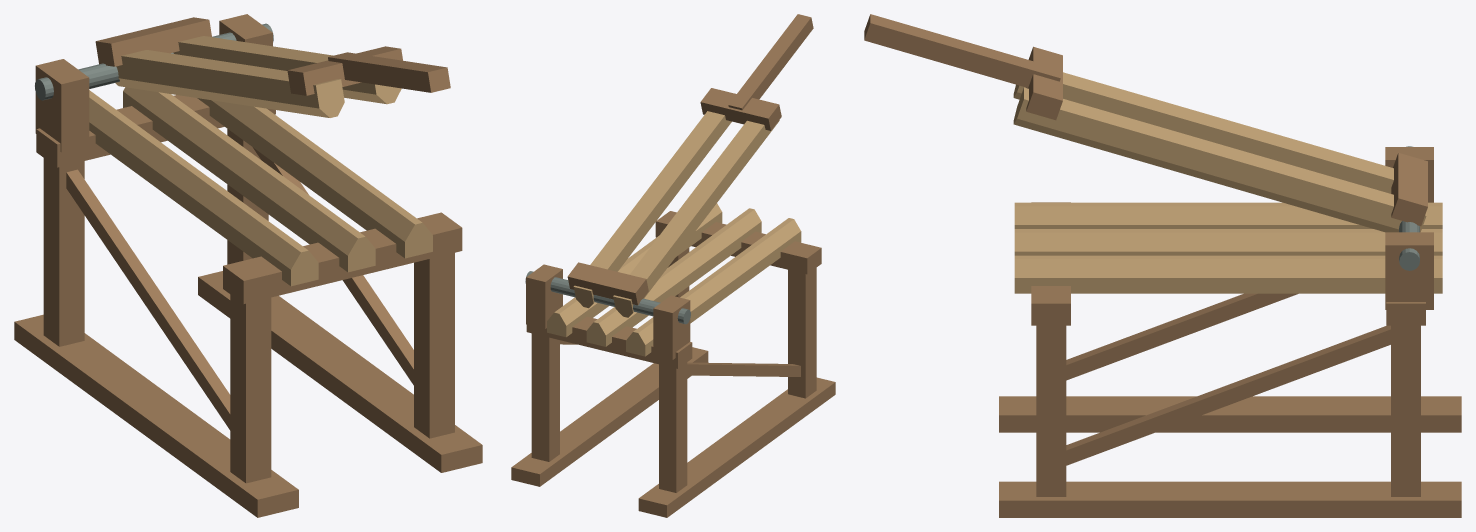
3 renders of one model, left to right at view 1: azimuth 30°, elevation 25°; view 2: azimuth 150°, elevation 25°; view 3: azimuth 270°, elevation 25°, orthographic. The views are drawn at different scales.
Visible parts, largest first — view 1: WholeLongGroundSkid0, WholeLongGroundSkid1, WholeStationaryLowerJaw1, WholeStationaryLowerJaw0, WholeStationaryLowerJaw2, WholeRaisedUpperJaw0, WholeTrestleLeg00, WholeTrestleLeg10, WholeTrestleLeg01, WholeEndCrossBearer0, WholeSideDiagonalBrace0, WholeRaisedUpperJaw1 (+9 smaller); view 2: WholeLongGroundSkid0, WholeRaisedUpperJaw0, WholeRaisedUpperJaw1, WholeLongGroundSkid1, WholeStationaryLowerJaw1, WholeStationaryLowerJaw0, WholeTrestleLeg01, WholeTrestleLeg11, WholeTrestleLeg00, WholeExtendedForwardHandLever, WholeStationaryLowerJaw2, WholeUpperFrameRearTie (+7 smaller); view 3: WholeLongGroundSkid1, WholeRaisedUpperJaw1, WholeStationaryLowerJaw2, WholeLongGroundSkid0, WholeStationaryLowerJaw1, WholeRaisedUpperJaw0, WholeStationaryLowerJaw0, WholeSideDiagonalBrace1, WholeTrestleLeg10, WholeExtendedForwardHandLever, WholeTrestleLeg11, WholeSideDiagonalBrace0 (+6 smaller).
Part boxes in pixels (x1,y1,x2,y2): WholeLongGroundSkid0: (14,314,298,517); WholeLongGroundSkid1: (198,271,482,472); WholeStationaryLowerJaw1: (123,87,375,272); WholeStationaryLowerJaw0: (89,90,318,286); WholeStationaryLowerJaw2: (197,98,432,258); WholeRaisedUpperJaw0: (115,50,344,117); WholeTrestleLeg00: (230,294,271,483); WholeTrestleLeg10: (414,252,454,438); WholeTrestleLeg01: (43,158,84,346); WholeEndCrossBearer0: (223,212,462,303); WholeSideDiagonalBrace0: (66,169,230,430); WholeRaisedUpperJaw1: (173,36,401,104); WholeLongGroundSkid0: (638,377,835,517); WholeRaisedUpperJaw0: (613,120,779,317); WholeRaisedUpperJaw1: (573,111,731,308); WholeLongGroundSkid1: (511,347,708,486); WholeStationaryLowerJaw1: (586,208,761,346); WholeStationaryLowerJaw0: (626,218,801,356); WholeTrestleLeg01: (659,362,687,492); WholeTrestleLeg11: (531,333,559,461); WholeTrestleLeg00: (788,268,816,398); WholeExtendedForwardHandLever: (728,14,813,110); WholeStationaryLowerJaw2: (547,203,722,337); WholeUpperFrameRearTie: (567,262,648,305); WholeLongGroundSkid1: (999,481,1461,517); WholeRaisedUpperJaw1: (1013,87,1426,232); WholeStationaryLowerJaw2: (1014,255,1442,293); WholeLongGroundSkid0: (999,396,1461,432); WholeStationaryLowerJaw1: (1014,229,1442,255); WholeRaisedUpperJaw0: (1013,72,1393,193); WholeStationaryLowerJaw0: (1014,202,1442,228); WholeSideDiagonalBrace1: (1066,325,1390,465); WholeTrestleLeg10: (1036,325,1066,496); WholeExtendedForwardHandLever: (864,14,1060,87); WholeTrestleLeg11: (1391,325,1420,496); WholeSideDiagonalBrace0: (1066,293,1298,380).
Size of the model in its own units: 0.72 by 1.42 by 1.72.
